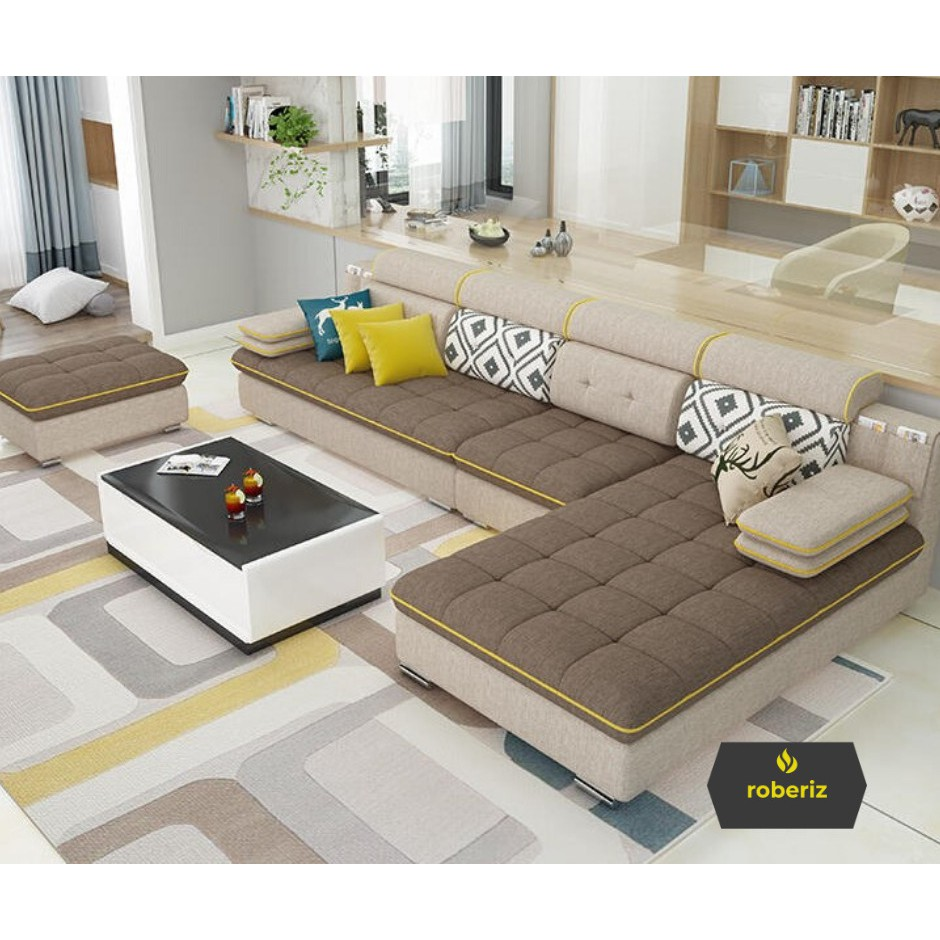bantal: (709, 415, 793, 508), (364, 313, 442, 385), (331, 306, 404, 372), (15, 268, 100, 321)
buku: (800, 81, 878, 138), (158, 451, 222, 478)
kursi: (3, 341, 192, 446), (792, 221, 913, 299)
meja: (91, 434, 387, 628)
sova: (393, 334, 938, 799), (228, 242, 680, 508)
tanaman: (268, 108, 326, 207)
